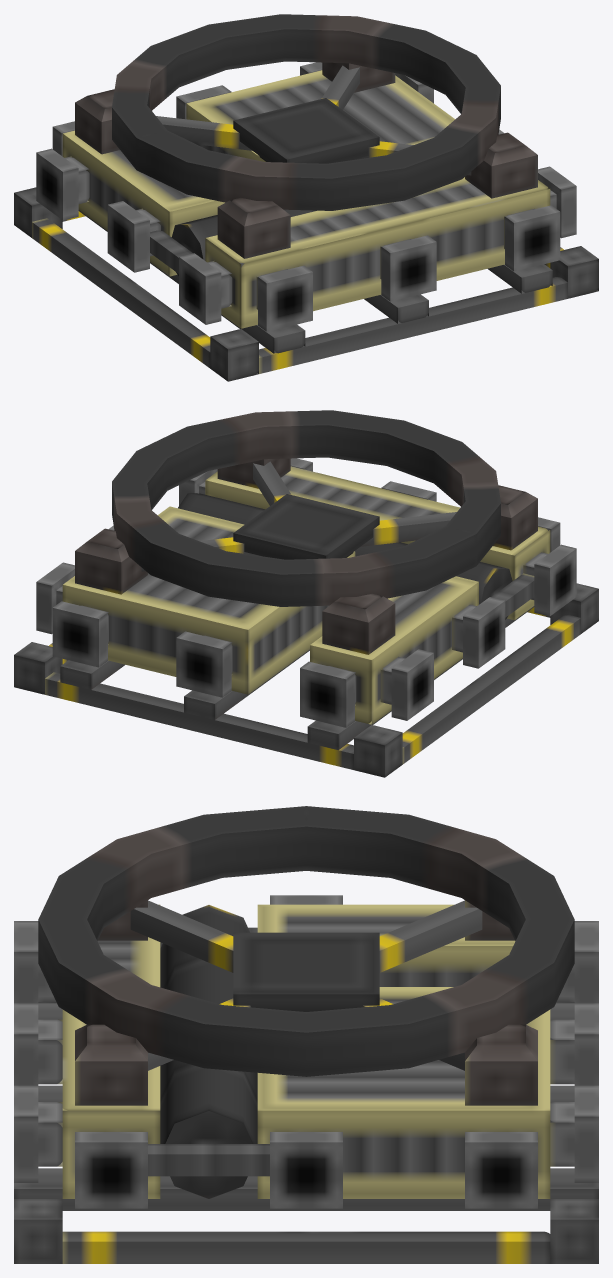
File: precass_base.obj
The picture shows the model from 3 angles, top to bottom: view 1: azimuth 30°, elevation 25°; view 2: azimuth 150°, elevation 25°; view 3: azimuth 270°, elevation 25°; orthographic projection. The views are drawn at different scales.
Visible parts, largest first — view 1: Base; view 2: Base; view 3: Base.
Part boxes in pixels (left/top/right/bottom): Base: left=14, top=14, right=598, bottom=381; Base: left=14, top=410, right=598, bottom=777; Base: left=14, top=806, right=598, bottom=1263.
Size of the model in its own units: 3 by 1.25 by 3.
